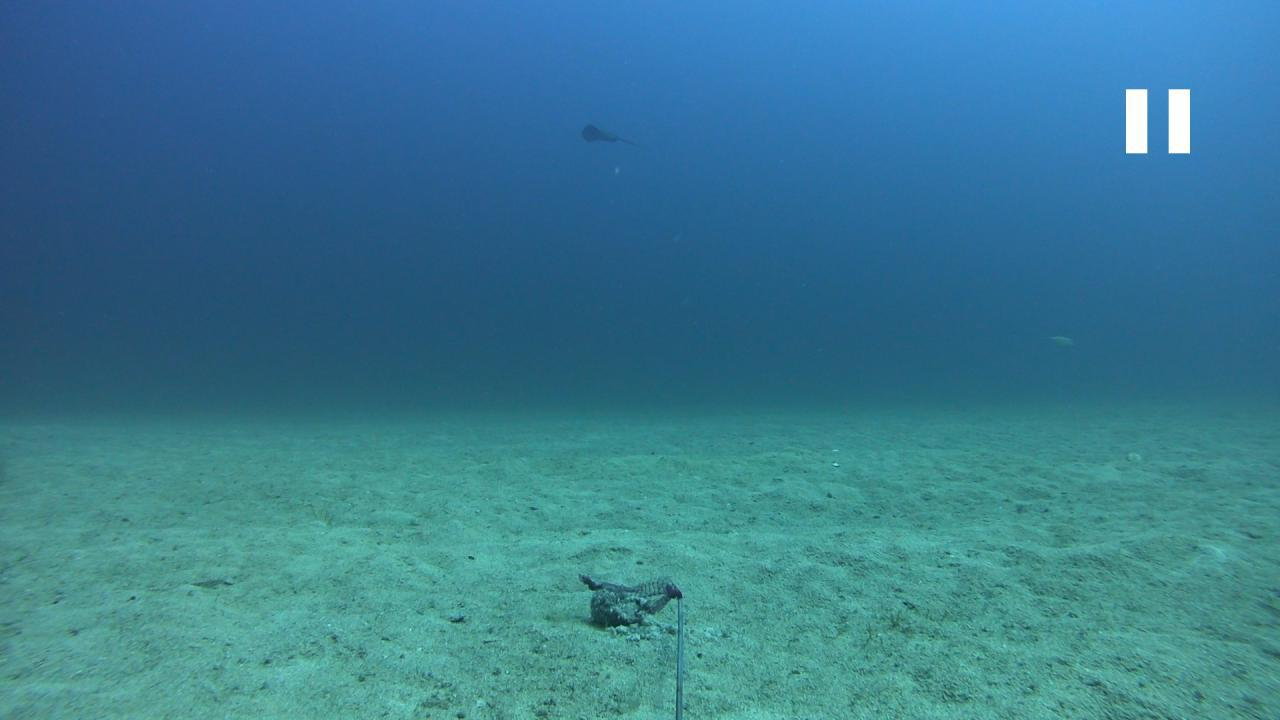dasyatis: (577, 122, 639, 146)
